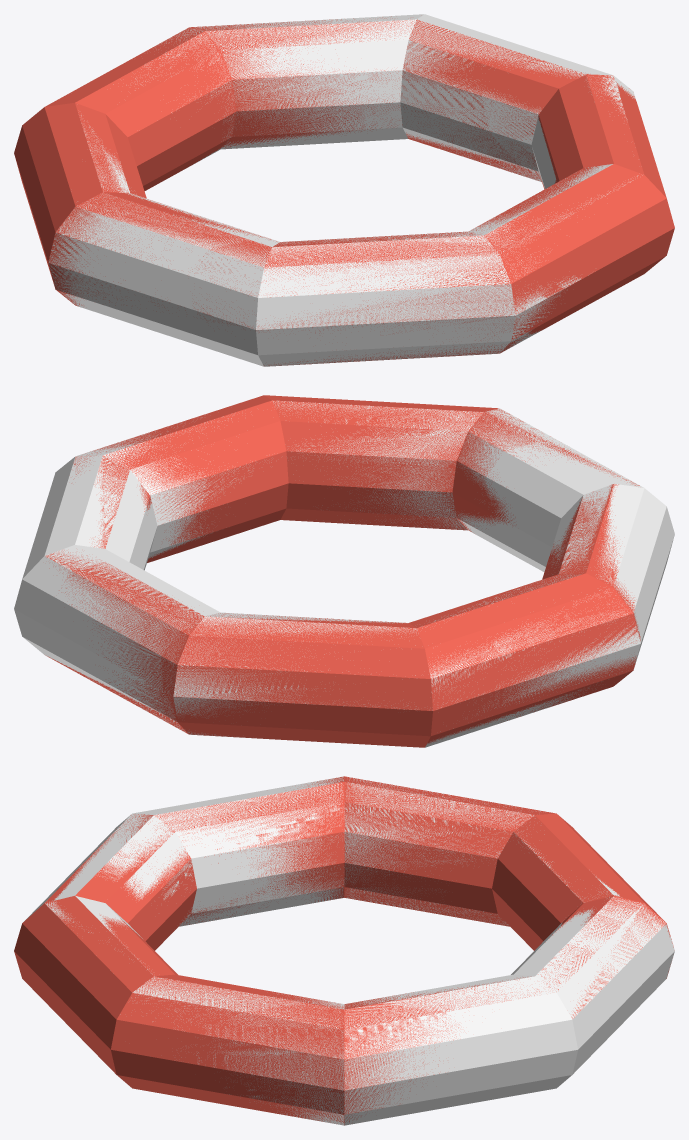
The model's file is life_preserver.fbx.
3 renders of one model, top to bottom at view 1: azimuth 30°, elevation 25°; view 2: azimuth 150°, elevation 25°; view 3: azimuth 270°, elevation 25°, orthographic. The views are drawn at different scales.
Parts seen in each view (by area): view 1: LP_Seg0, LP_Seg1, LP_Seg3, LP_Seg2; view 2: LP_Seg0, LP_Seg2, LP_Seg3, LP_Seg1; view 3: LP_Seg0, LP_Seg1, LP_Seg2, LP_Seg3.
Part boxes in pixels (x1,y1,x2,y2): LP_Seg0: [14, 16, 674, 340]; LP_Seg1: [48, 14, 642, 366]; LP_Seg3: [49, 14, 622, 366]; LP_Seg2: [45, 20, 666, 365]; LP_Seg0: [45, 395, 638, 744]; LP_Seg2: [71, 395, 640, 747]; LP_Seg3: [14, 401, 674, 731]; LP_Seg1: [22, 401, 643, 747]; LP_Seg0: [14, 776, 673, 1125]; LP_Seg1: [24, 777, 594, 1125]; LP_Seg2: [44, 776, 664, 1123]; LP_Seg3: [45, 776, 674, 1125].
Size of the model in its own units: 103 by 19 by 103.
